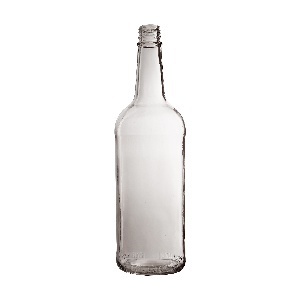emptybottle: (115, 26, 187, 276)
